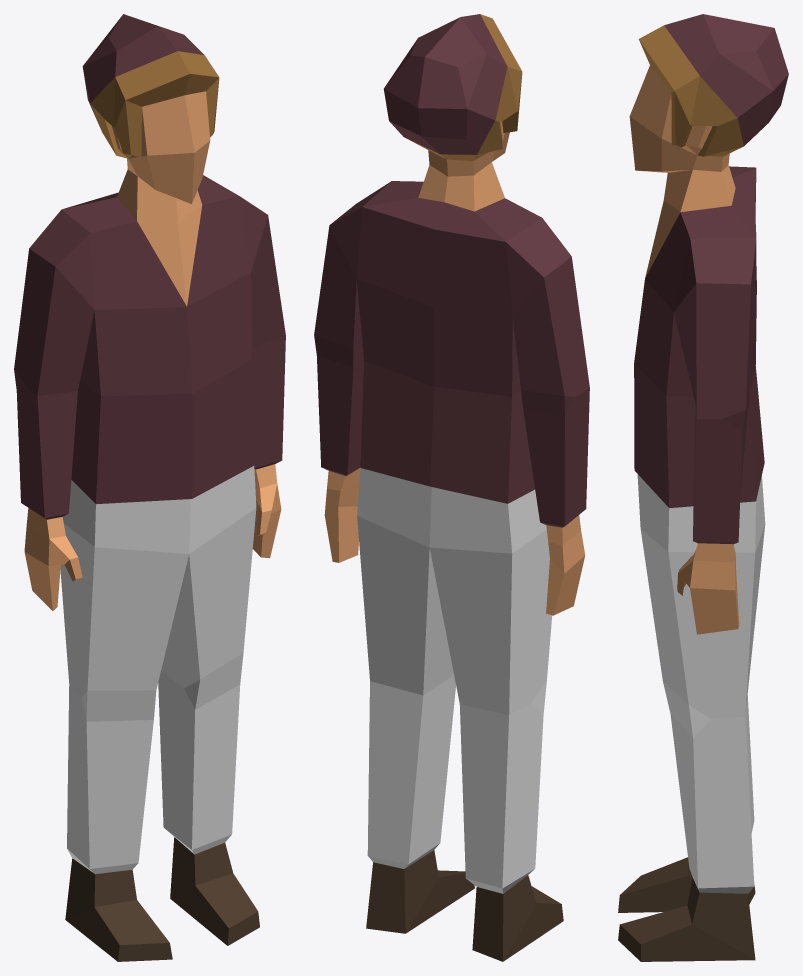
The model's file is man-pedestrian-rival-young.fbx.
The picture shows the model from 3 angles, left to right: view 1: azimuth 30°, elevation 25°; view 2: azimuth 150°, elevation 25°; view 3: azimuth 270°, elevation 25°; orthographic projection.
Parts seen in each view (by area): view 1: man-pedestrian-rival-young; view 2: man-pedestrian-rival-young; view 3: man-pedestrian-rival-young.
Part boxes in pixels (<box>): man-pedestrian-rival-young: <box>14,14,285,961</box>; man-pedestrian-rival-young: <box>314,14,589,961</box>; man-pedestrian-rival-young: <box>618,14,788,961</box>.
Bounding box in the file's own units: 0.5438 × 1.87 × 0.318.
